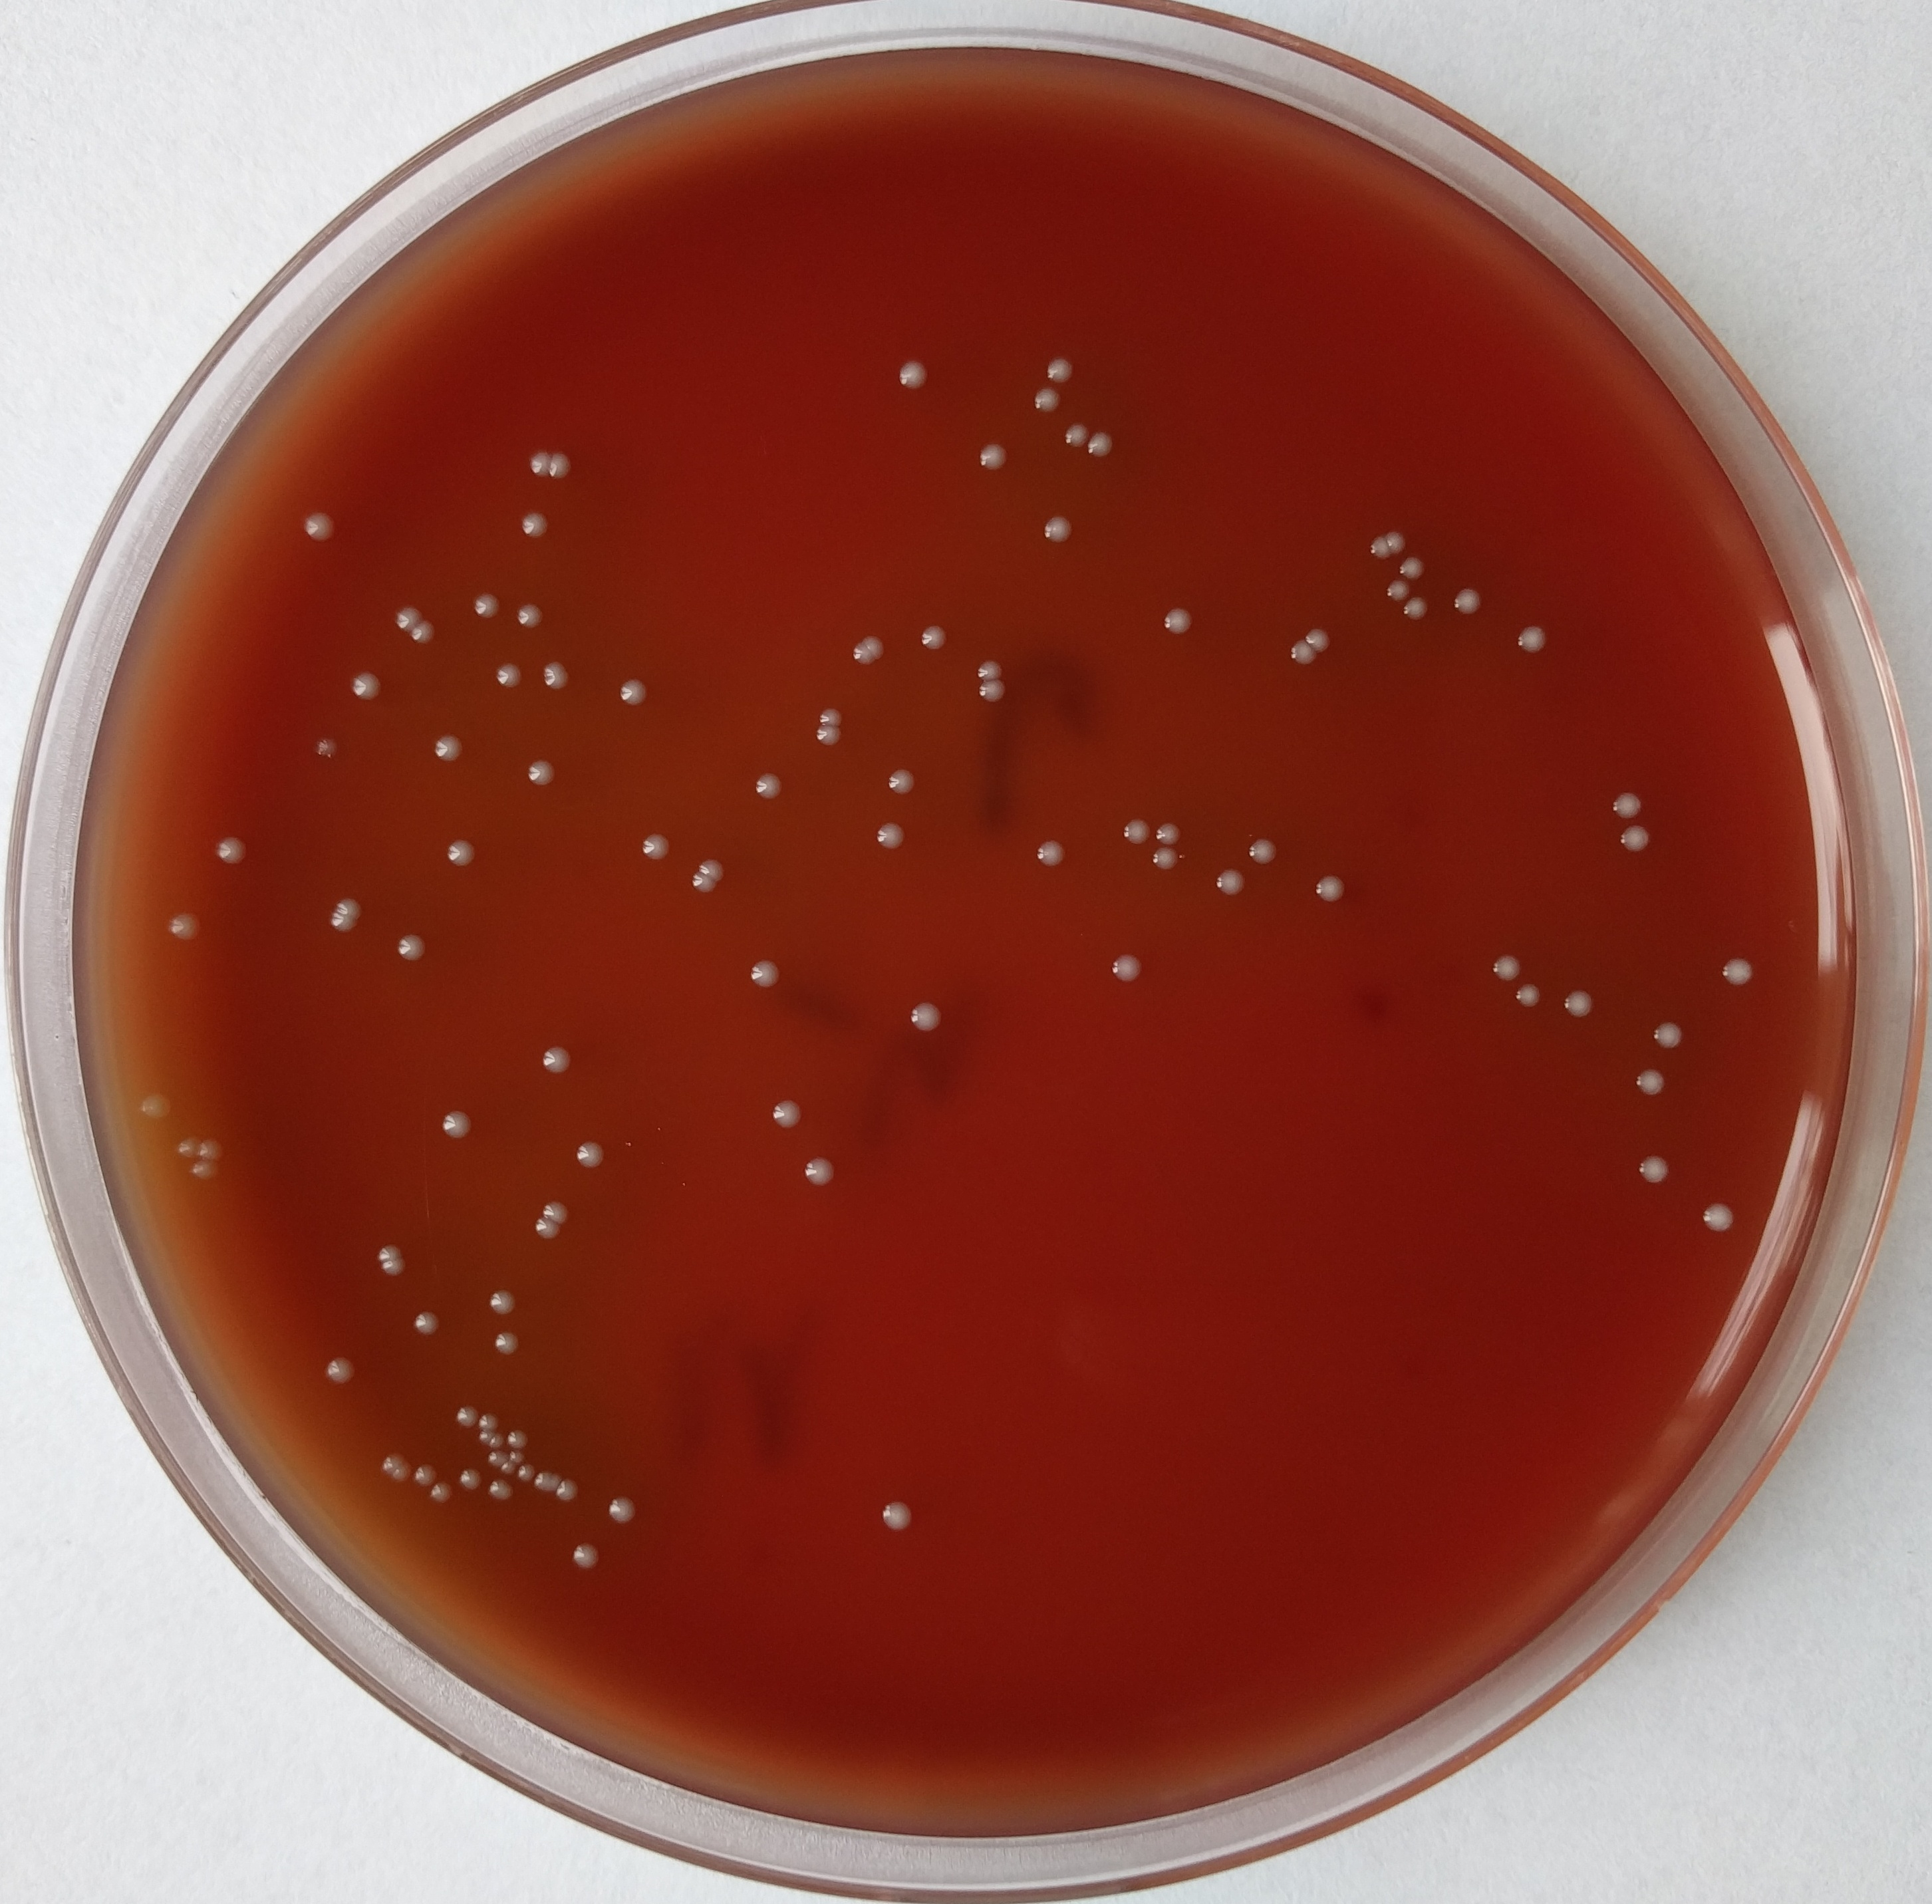sp24: (895, 987, 959, 1044), (204, 823, 265, 877), (790, 1153, 849, 1207), (507, 495, 561, 551), (309, 1343, 363, 1397), (427, 1102, 485, 1153), (530, 1034, 581, 1091), (861, 811, 915, 863), (420, 720, 474, 772), (1712, 942, 1763, 996), (1620, 1053, 1674, 1104), (1018, 826, 1076, 874), (560, 1132, 617, 1179), (612, 664, 656, 725), (760, 1086, 813, 1137), (476, 1271, 525, 1323), (513, 751, 567, 799), (289, 507, 347, 551), (385, 928, 436, 976), (340, 663, 392, 710), (152, 905, 213, 945), (888, 347, 935, 398), (1207, 860, 1254, 910), (595, 1487, 645, 1534), (1552, 982, 1602, 1029), (483, 649, 534, 696), (739, 764, 790, 811), (1240, 823, 1283, 877), (1643, 1017, 1697, 1060), (133, 1076, 173, 1133), (743, 950, 788, 1001), (1292, 619, 1346, 661), (1105, 807, 1161, 847), (1088, 945, 1149, 982), (534, 656, 581, 703), (520, 1212, 567, 1259), (1611, 823, 1662, 867), (438, 826, 481, 877), (963, 671, 1015, 713), (802, 692, 856, 732), (881, 757, 928, 802), (1285, 626, 1320, 687), (1601, 786, 1655, 825), (910, 615, 956, 661), (1397, 584, 1444, 628), (483, 1323, 527, 1370), (534, 1194, 581, 1238), (1503, 978, 1550, 1022), (1444, 581, 1494, 621), (1697, 1198, 1747, 1238), (1515, 619, 1557, 666), (364, 1217, 412, 1259), (1144, 813, 1194, 851), (1140, 842, 1191, 881), (560, 1533, 603, 1576), (1486, 945, 1529, 989), (969, 649, 1015, 690), (1039, 347, 1079, 394), (872, 1498, 919, 1538), (460, 584, 507, 624), (631, 823, 678, 863), (1301, 867, 1351, 903), (504, 596, 554, 633), (405, 1302, 452, 1341), (513, 439, 548, 490), (1634, 1153, 1677, 1193), (361, 1257, 418, 1287), (795, 727, 856, 755), (1357, 525, 1398, 565), (1158, 596, 1198, 636), (312, 908, 352, 949), (969, 439, 1017, 473), (1393, 551, 1432, 591), (1029, 384, 1072, 417), (412, 619, 448, 657), (188, 1158, 225, 1196), (1039, 514, 1079, 549), (1367, 525, 1414, 554), (1051, 415, 1085, 457), (166, 1125, 206, 1158), (835, 635, 867, 677), (333, 884, 370, 919), (312, 724, 340, 765), (389, 591, 420, 626), (485, 1479, 518, 1508), (867, 629, 891, 670), (1088, 425, 1116, 460), (530, 1468, 565, 1494), (553, 445, 577, 479), (457, 1461, 483, 1493), (197, 1133, 232, 1156), (412, 1459, 441, 1486), (452, 1398, 476, 1430), (699, 853, 734, 874), (556, 1477, 581, 1503), (431, 1482, 452, 1512), (680, 872, 711, 891), (481, 1404, 504, 1430), (507, 1428, 532, 1449), (375, 1449, 401, 1468), (485, 1449, 507, 1470), (516, 1463, 541, 1480), (486, 1430, 507, 1447), (396, 1461, 408, 1491), (476, 1430, 493, 1447), (513, 1449, 528, 1466), (500, 1461, 516, 1473)
